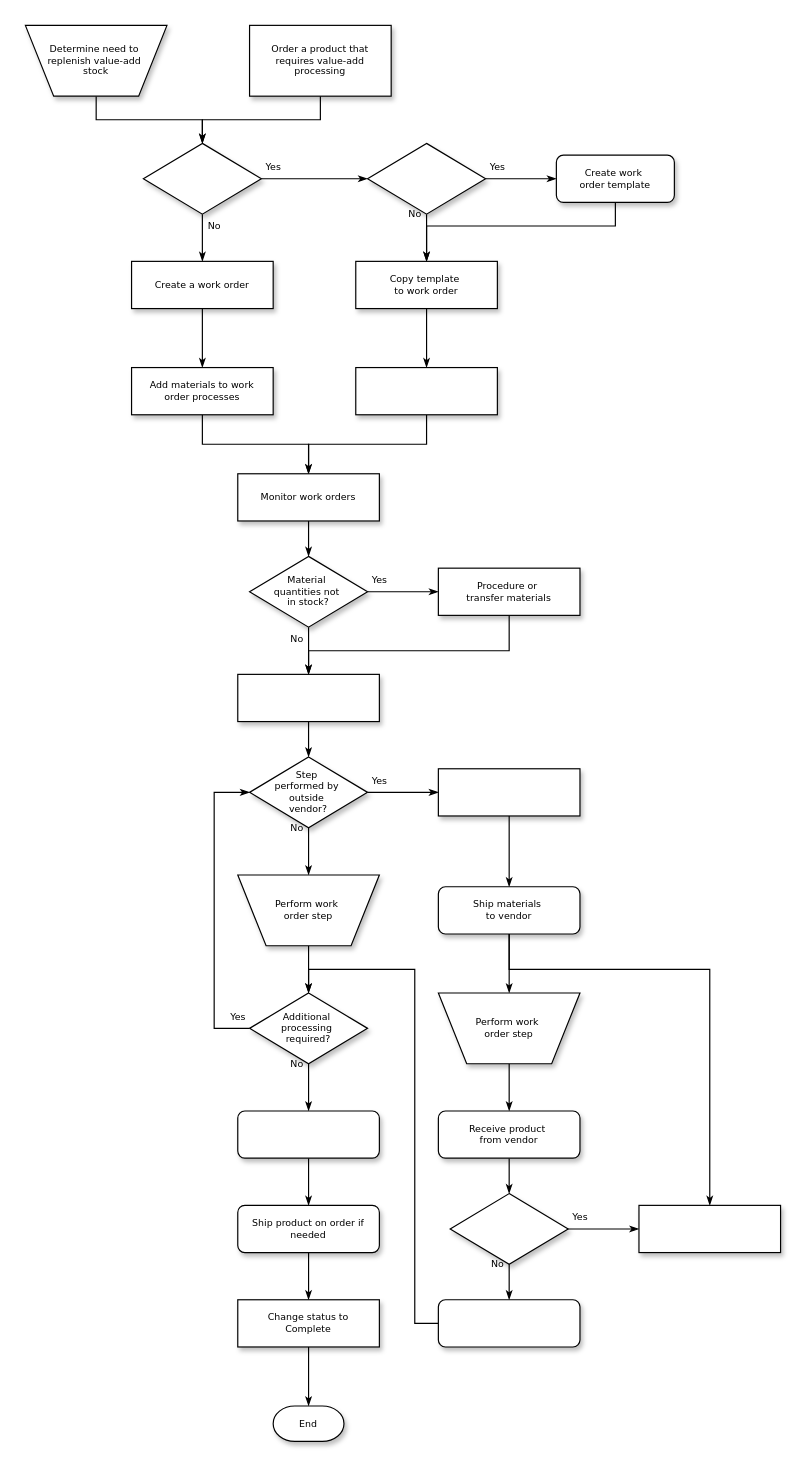
The diagram is 808 pixels wide and 1470 high, and some of its shapes have lost their labels. Here are the shapes that lost their labels. From the top down, the centre of each, then its label:
[202,179]: Frequently performed process?
[427,179]: New template needed?
[427,392]: Adjust material quantities if needed
[309,699]: Change status to In Process
[509,793]: Add or adjust vendor costs
[309,1135]: Receive info stock
[509,1230]: Only partial quality received?
[710,1230]: Create work order backorder
[509,1324]: Pay vendor invoice
